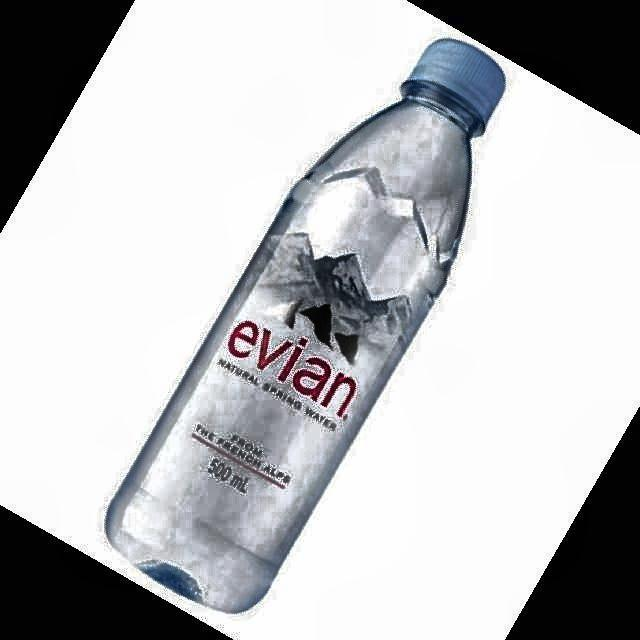plastic: (108, 40, 505, 612)
